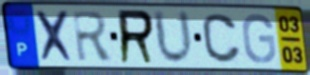C: (200, 12, 244, 65)
G: (240, 12, 278, 66)
R: (70, 9, 116, 64), (116, 7, 157, 66)
U: (151, 8, 197, 67)
X: (33, 8, 78, 65)
